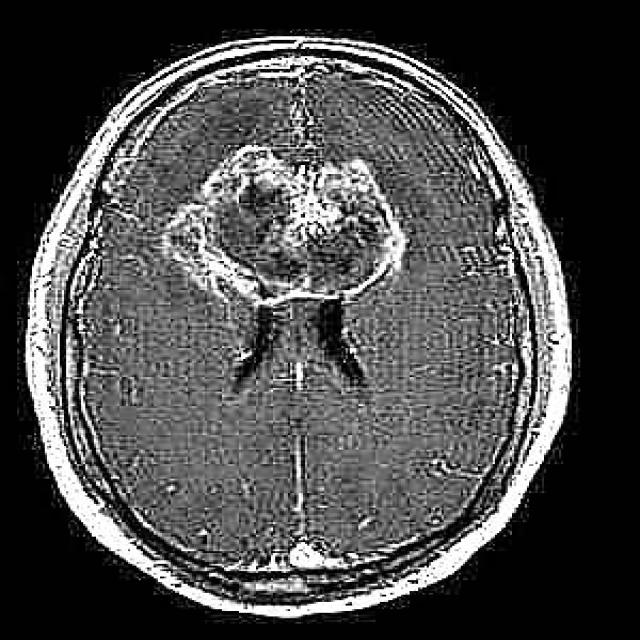Tumor-Cell: (183, 154, 436, 316)
